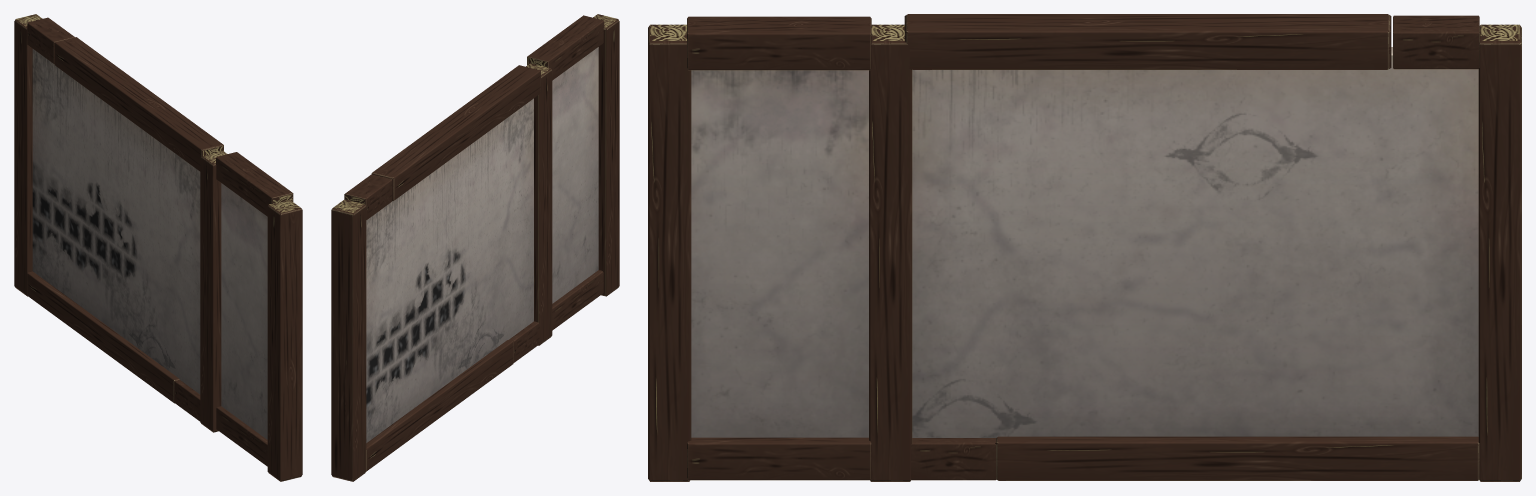
The model's file is Wall_Piece_R1.fbx.
The picture shows the model from 3 angles, left to right: view 1: azimuth 30°, elevation 25°; view 2: azimuth 150°, elevation 25°; view 3: azimuth 270°, elevation 25°; orthographic projection. The views are drawn at different scales.
Visible parts, largest first — view 1: Wall_20.002; view 2: Wall_20.002; view 3: Wall_20.002.
Part boxes in pixels (x1,y1,x2,y2): Wall_20.002: (14,14,302,481); Wall_20.002: (331,14,619,481); Wall_20.002: (648,14,1521,481).
Size of the model in its own units: 34.56 by 357 by 626.
